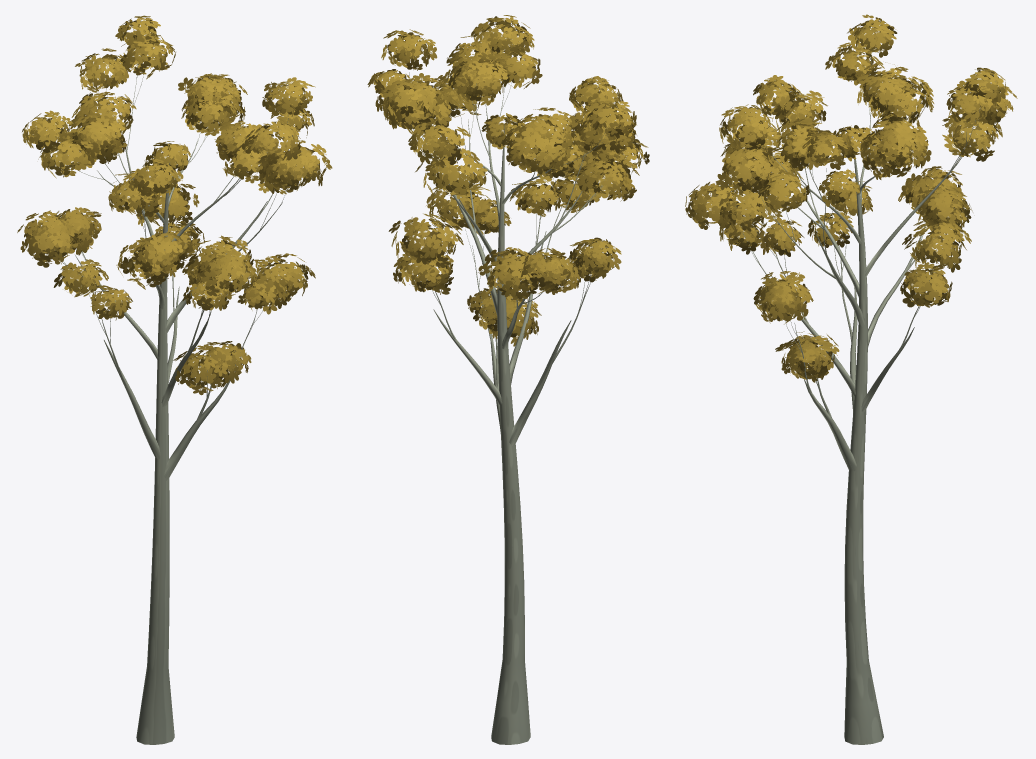
File: tree.gltf
3 views of the same model, side by side, from view 1: azimuth 30°, elevation 25°; view 2: azimuth 150°, elevation 25°; view 3: azimuth 270°, elevation 25° (orthographic). The views are drawn at different scales.
Parts seen in each view (by area): view 1: Tree_LOD0; view 2: Tree_LOD0; view 3: Tree_LOD0.
Part boxes in pixels (<box>): Tree_LOD0: <box>17,15,332,744</box>; Tree_LOD0: <box>367,15,649,744</box>; Tree_LOD0: <box>685,14,1017,744</box>.
Bounding box in the file's own units: 11.43 × 26.17 × 11.7.
Materials: 2 (2 with a texture image).
